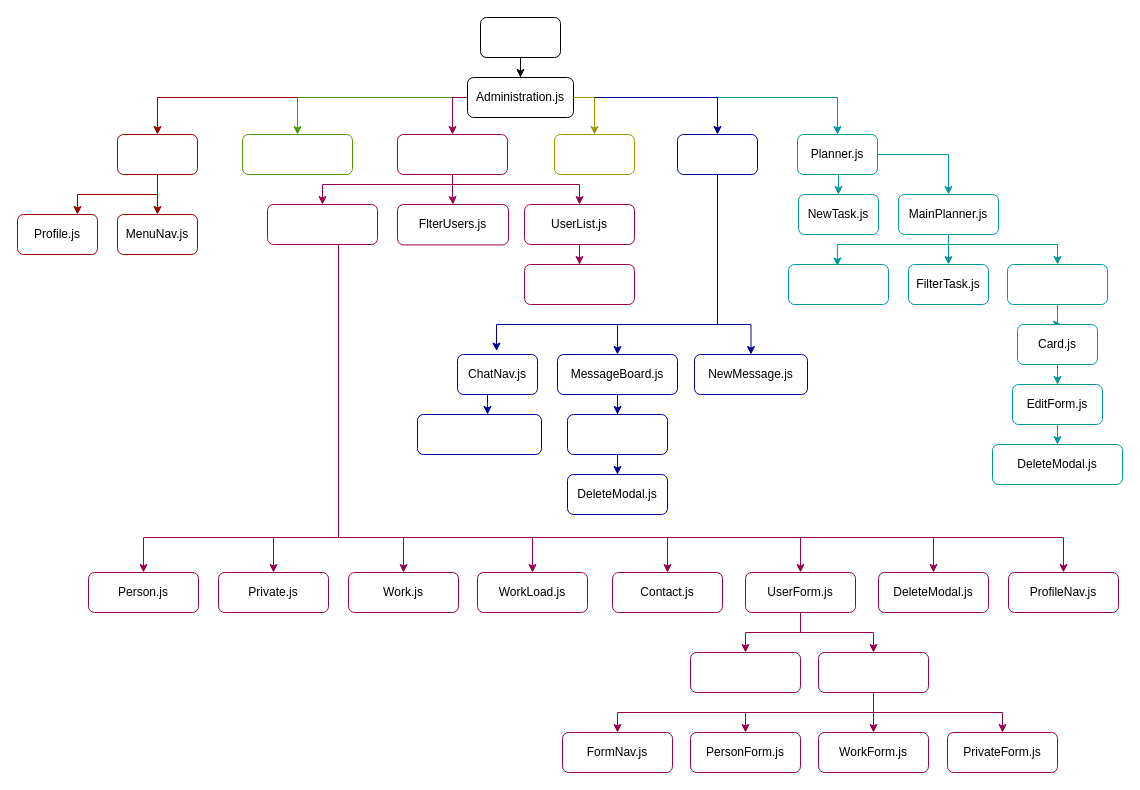
Some shapes in this 1140 by 790 pixel diagram are drawn without their labels. The shapes that lost their labels are listed below. From the top down, each one's box as (x1, y1, x2, y2) in pixels, then its label:
(480, 16, 560, 58): App.js
(116, 134, 198, 174): Menu.js
(242, 134, 352, 174): TopBar.js
(396, 134, 508, 174): MainAdmin.js
(554, 134, 634, 174): Submenu.js
(676, 134, 758, 174): Chat.js
(266, 204, 378, 244): ViewProfile.js
(524, 264, 634, 304): UserCard.js
(788, 264, 888, 304): PlannerNav.js
(1006, 264, 1108, 304): PlannerList.js
(416, 414, 542, 454): FilterMessages.js
(566, 414, 668, 454): Message.js
(690, 652, 800, 692): FormPath.js
(818, 652, 928, 692): Form.js
